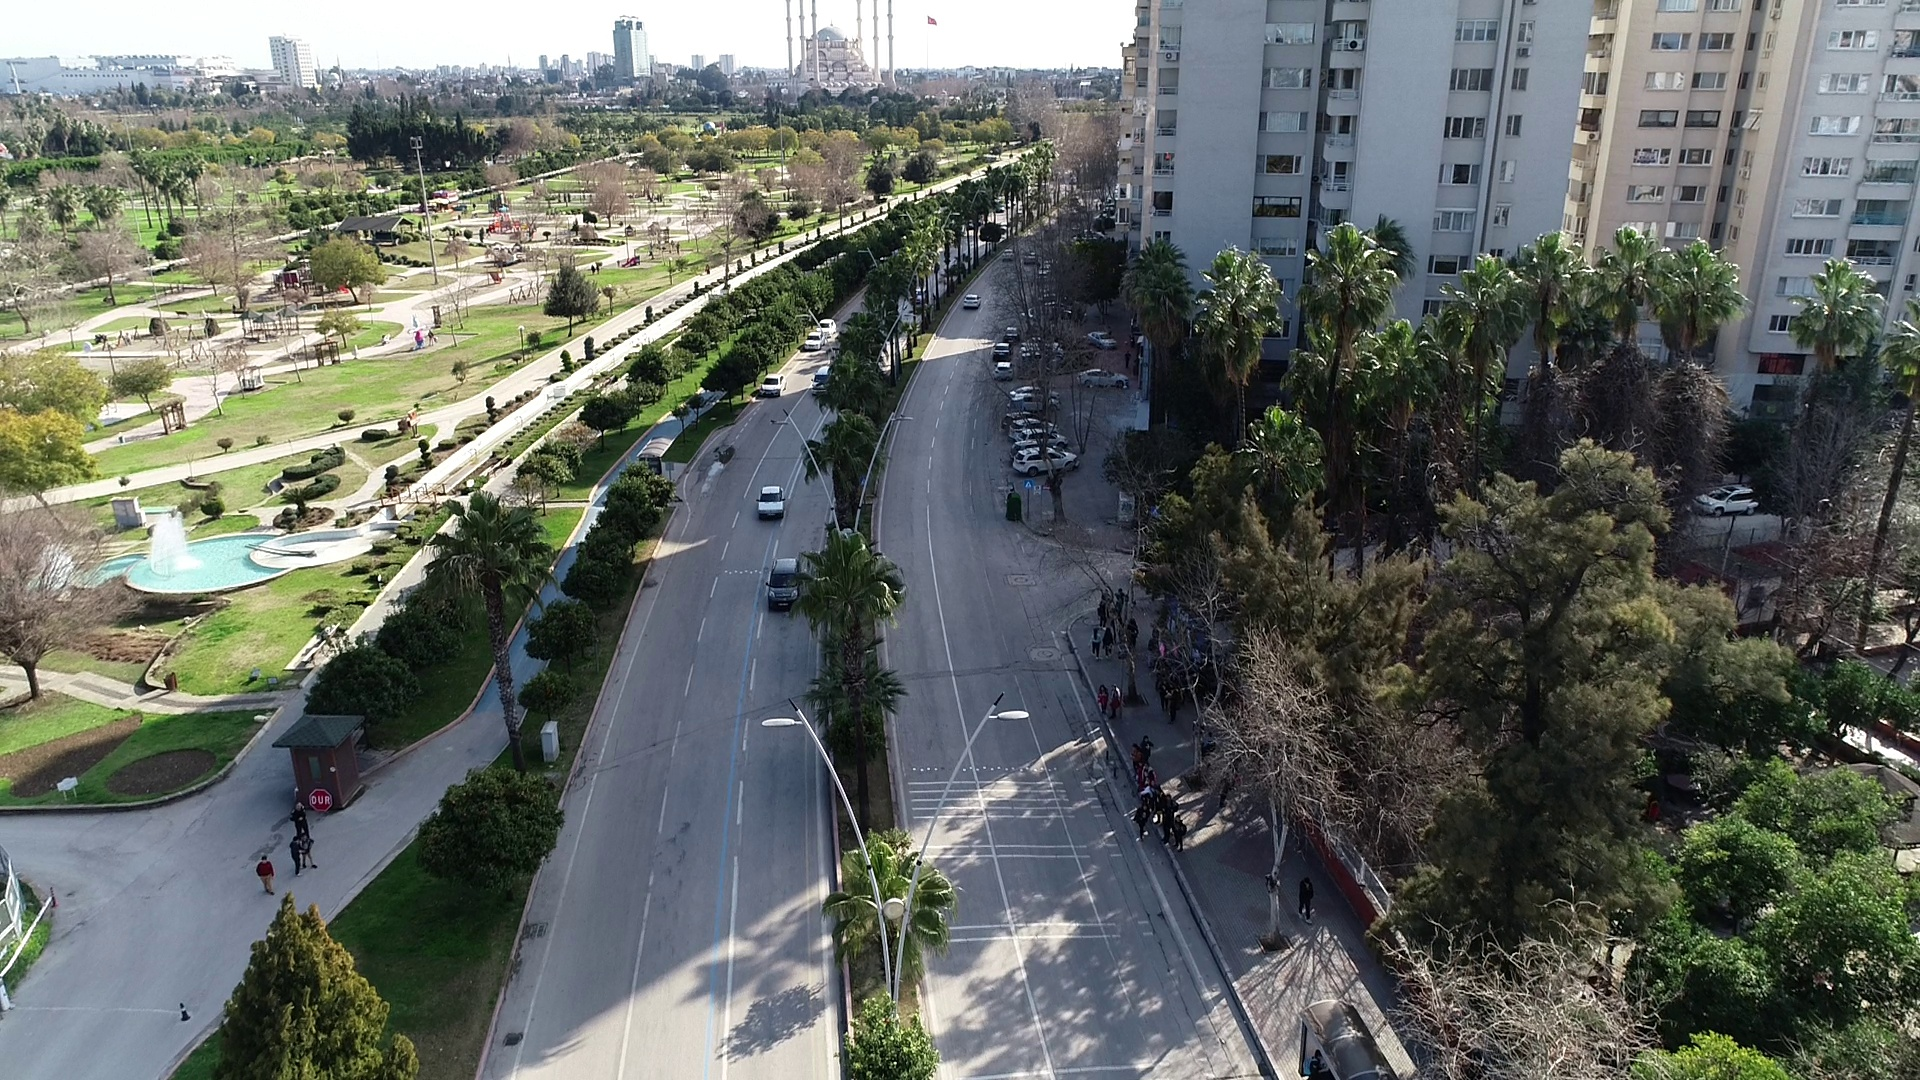car: (1693, 479, 1774, 516), (763, 556, 806, 614), (1009, 447, 1086, 475), (1073, 363, 1130, 396), (755, 481, 792, 521), (1006, 420, 1057, 440), (1010, 384, 1060, 405), (757, 368, 790, 400), (811, 365, 835, 398), (1084, 328, 1117, 350), (814, 315, 836, 338), (805, 329, 826, 352), (992, 360, 1016, 381), (990, 340, 1014, 359), (961, 293, 980, 314), (1004, 322, 1021, 343)
person: (1296, 874, 1322, 927), (286, 801, 318, 842), (252, 854, 282, 897), (297, 831, 327, 870), (1170, 813, 1195, 852), (1133, 801, 1155, 840), (285, 833, 304, 878), (1140, 731, 1160, 766), (1108, 682, 1128, 718), (1127, 740, 1143, 775), (1088, 626, 1102, 662), (1096, 681, 1110, 715), (1158, 678, 1171, 714), (1103, 628, 1117, 657), (1122, 348, 1134, 371)
